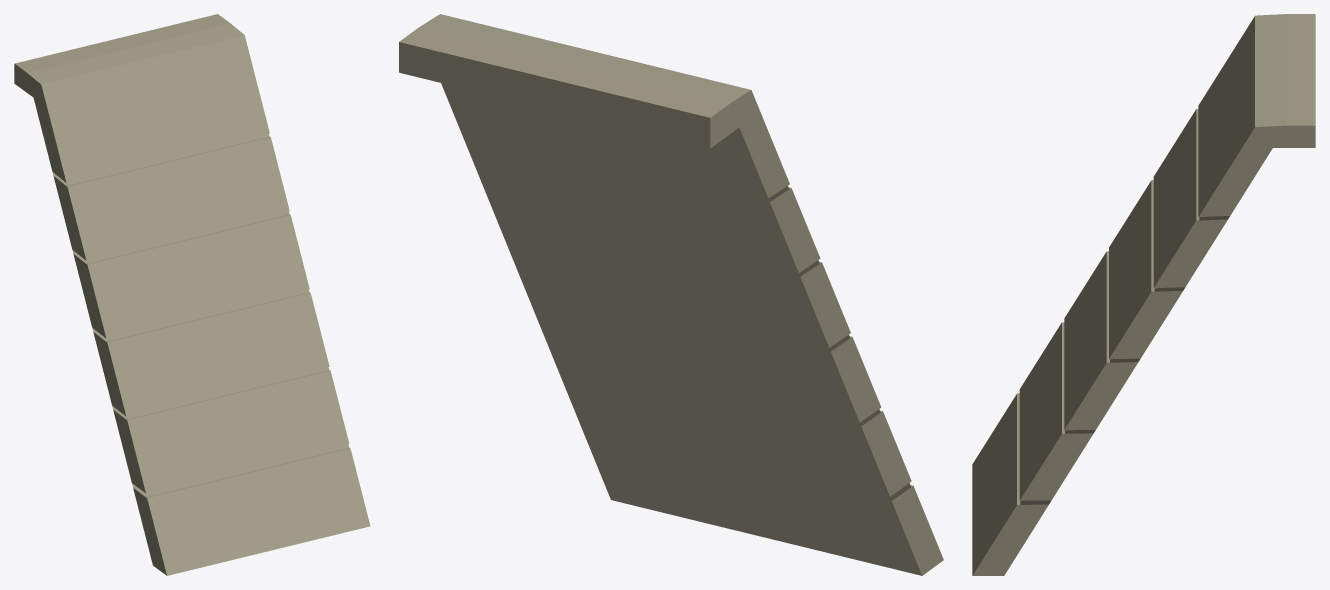
The model's file is Roof01_house5.fbx.
3 views of the same model, side by side, from view 1: azimuth 30°, elevation 25°; view 2: azimuth 150°, elevation 25°; view 3: azimuth 270°, elevation 25° (orthographic). The views are drawn at different scales.
Visible parts, largest first — view 1: Roof01_house05; view 2: Roof01_house05; view 3: Roof01_house05.
Part boxes in pixels (box(x1,y1,x2,y2)): Roof01_house05: box(14, 14, 370, 575); Roof01_house05: box(399, 14, 943, 575); Roof01_house05: box(972, 14, 1315, 575).
Bounding box in the file's own units: 282 × 531 × 367.
